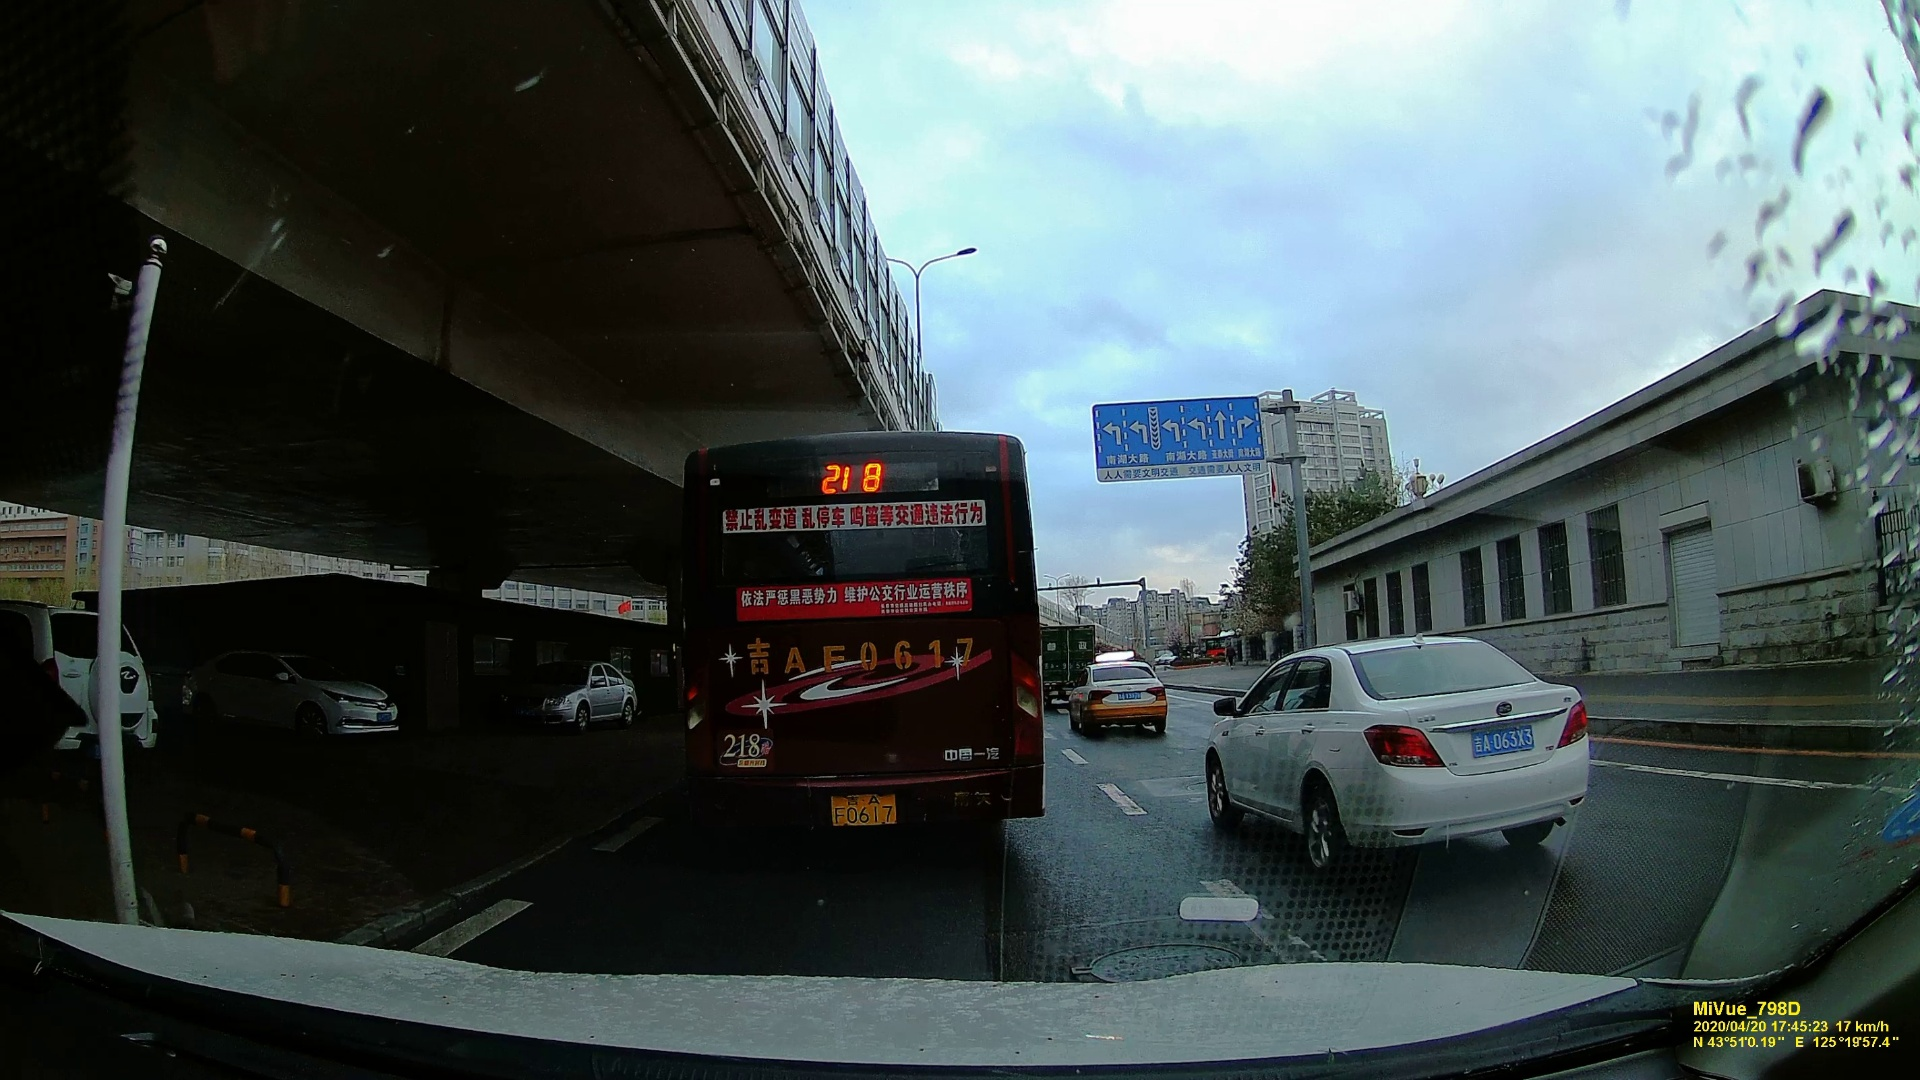bus: (683, 434, 1039, 860)
traffic_sign: (1100, 404, 1255, 473)
vehicle: (1197, 629, 1598, 872), (167, 644, 405, 742), (1065, 659, 1172, 738)
